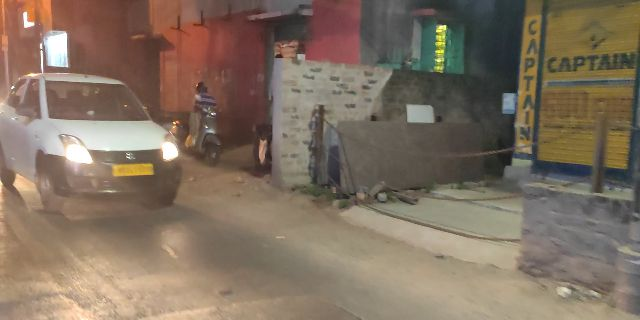Car: (18, 71, 184, 218)
